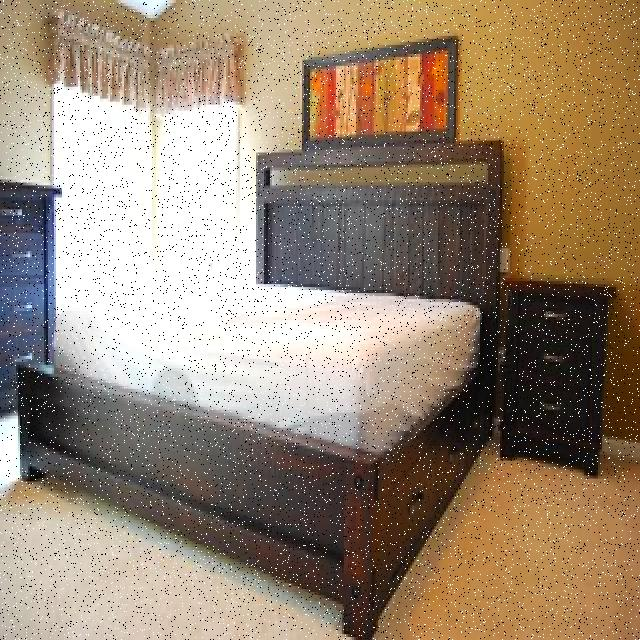bed: (37, 188, 497, 532)
